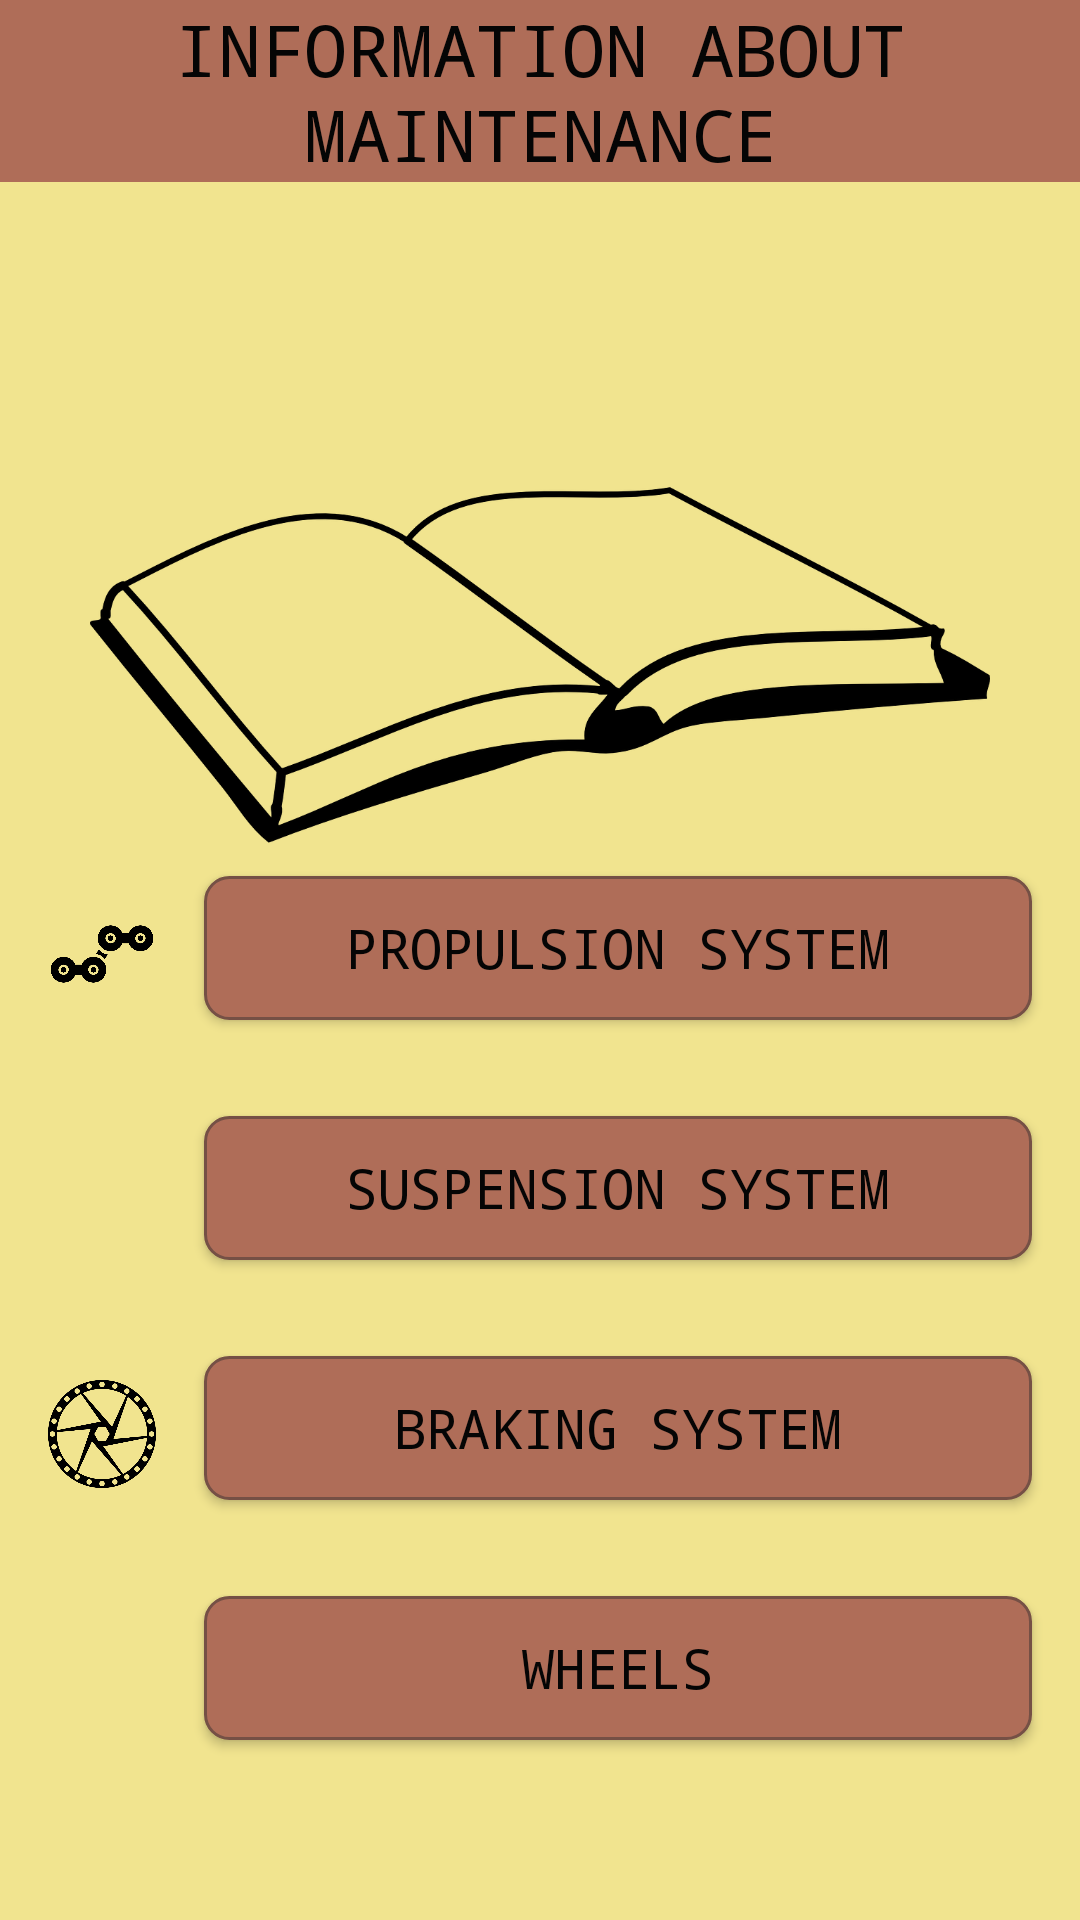

Where to tap for icons on this 1080px×1920px app screen, as (x,y):
brake: (102,1434)
chain: (102,954)
